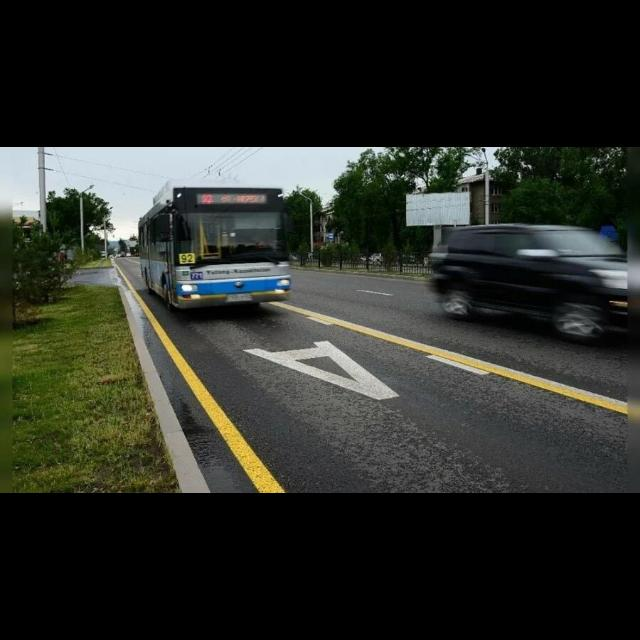road: (73, 258, 636, 493)
